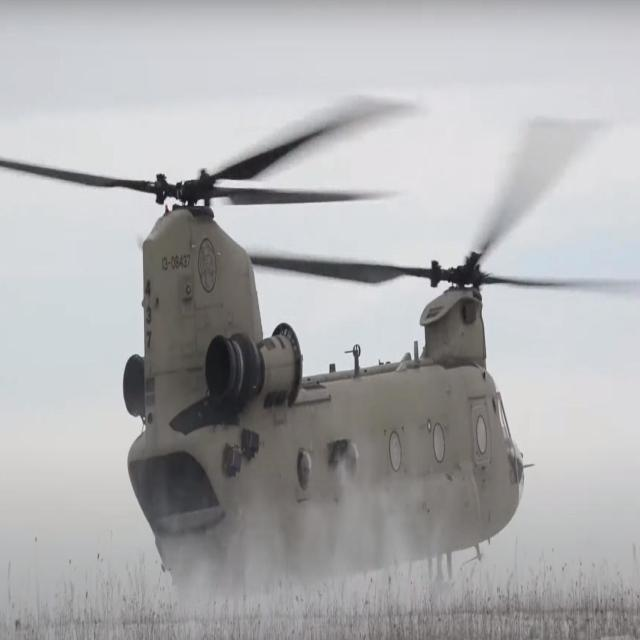Helicopter: (101, 106, 566, 591)
